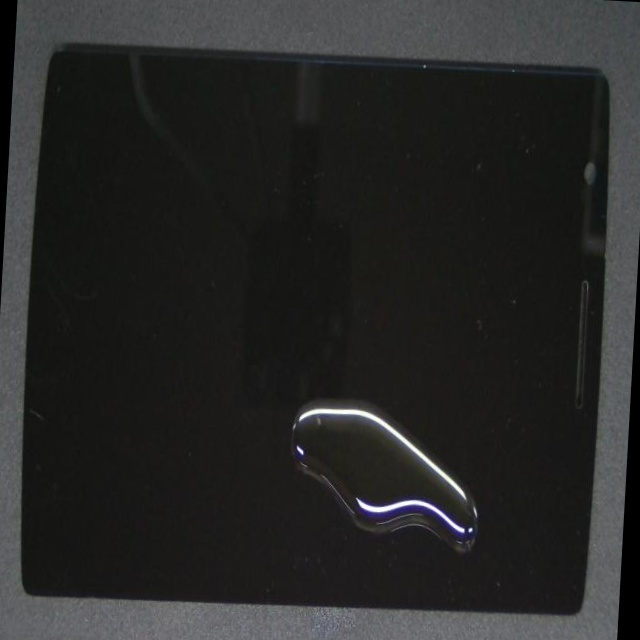oil: (231, 276, 636, 640)
